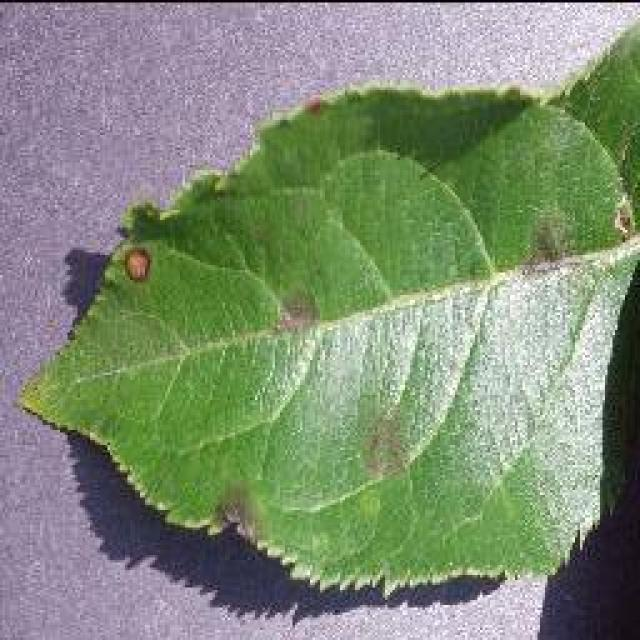apple scab disease: (122, 245, 150, 280)
